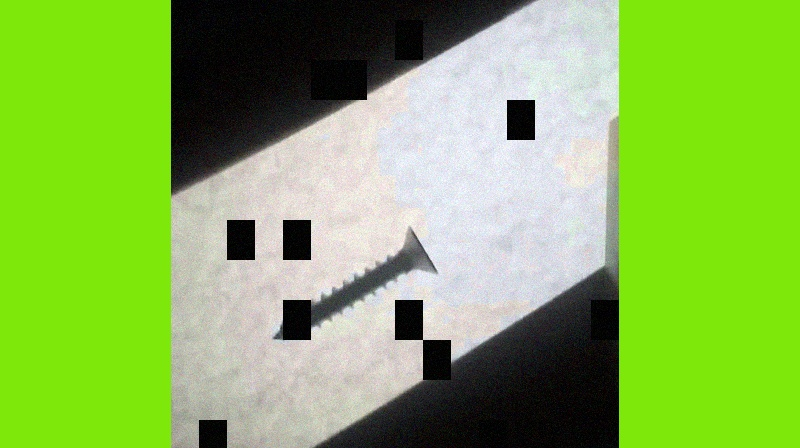S001: (272, 221, 442, 349)
